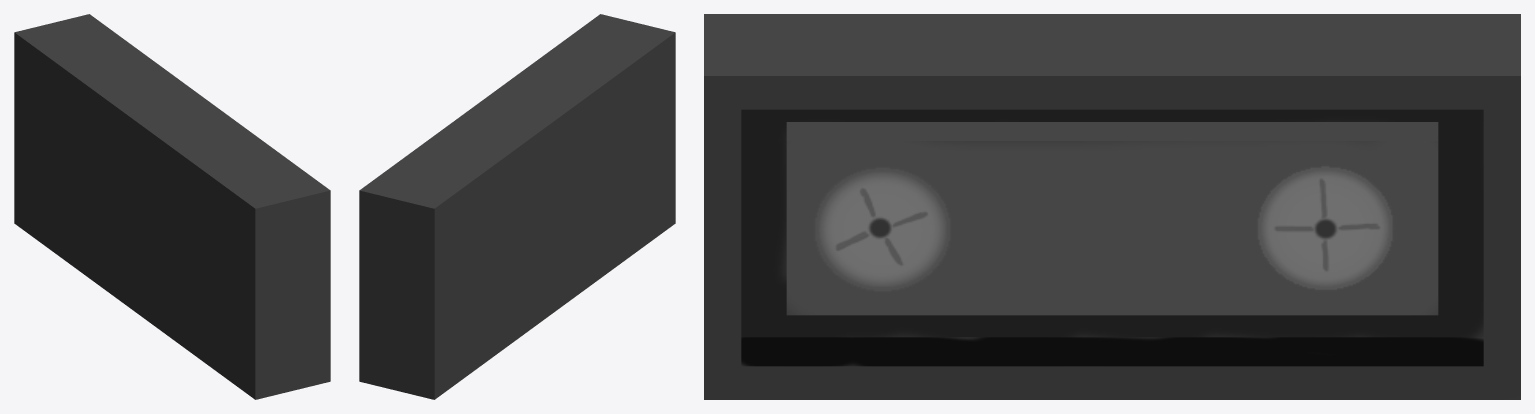
Rendered from Tape.fbx.
3 views of the same model, side by side, from view 1: azimuth 30°, elevation 25°; view 2: azimuth 150°, elevation 25°; view 3: azimuth 270°, elevation 25° (orthographic). The views are drawn at different scales.
Parts seen in each view (by area): view 1: Cube; view 2: Cube; view 3: Cube.
Boxes of the visible parts, left/top/right/bottom form: Cube: left=14, top=14, right=330, bottom=399; Cube: left=359, top=14, right=675, bottom=399; Cube: left=704, top=14, right=1520, bottom=399.
Bounding box in the file's own units: 11 × 26.74 × 61.14.
